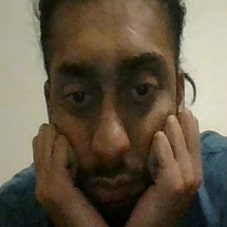drowsy: (31, 49, 206, 227)
